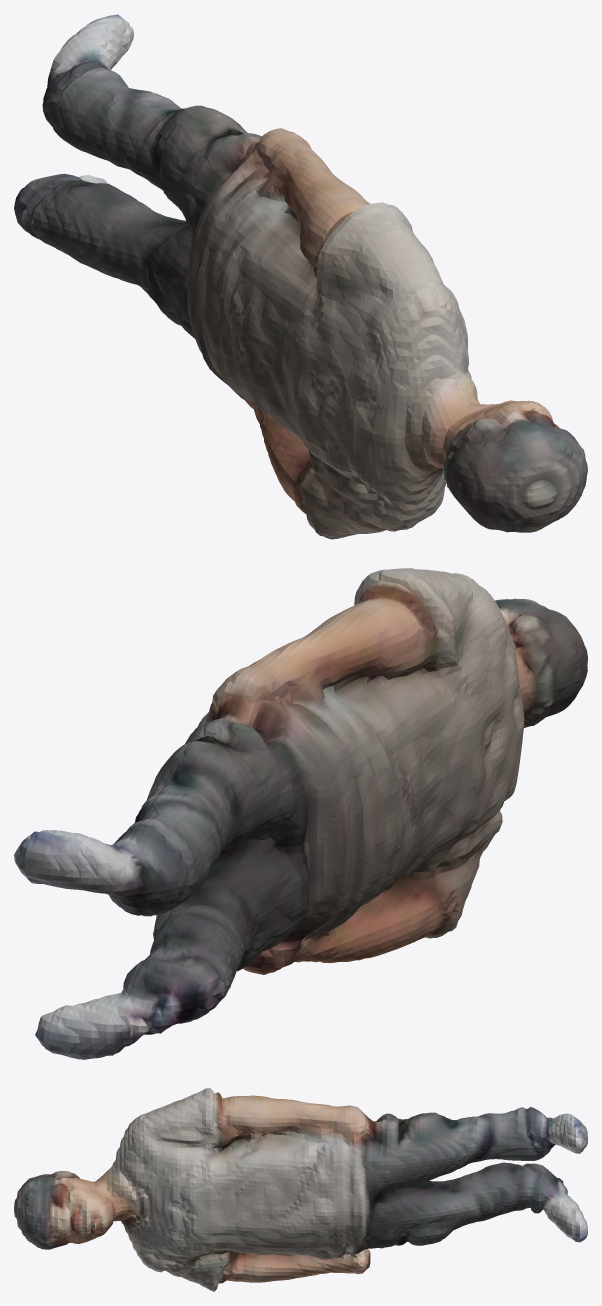
The model's file is avatar.glb.
The picture shows the model from 3 angles, top to bottom: view 1: azimuth 30°, elevation 25°; view 2: azimuth 150°, elevation 25°; view 3: azimuth 270°, elevation 25°; orthographic projection. The views are drawn at different scales.
Parts seen in each view (by area): view 1: world; view 2: world; view 3: world.
Boxes of the visible parts, x1,y1,x2,y2 form: world: (14, 14, 587, 539); world: (14, 568, 587, 1059); world: (14, 1088, 587, 1291).
Bounding box in the file's own units: 0.228 × 0.3752 × 0.953.
